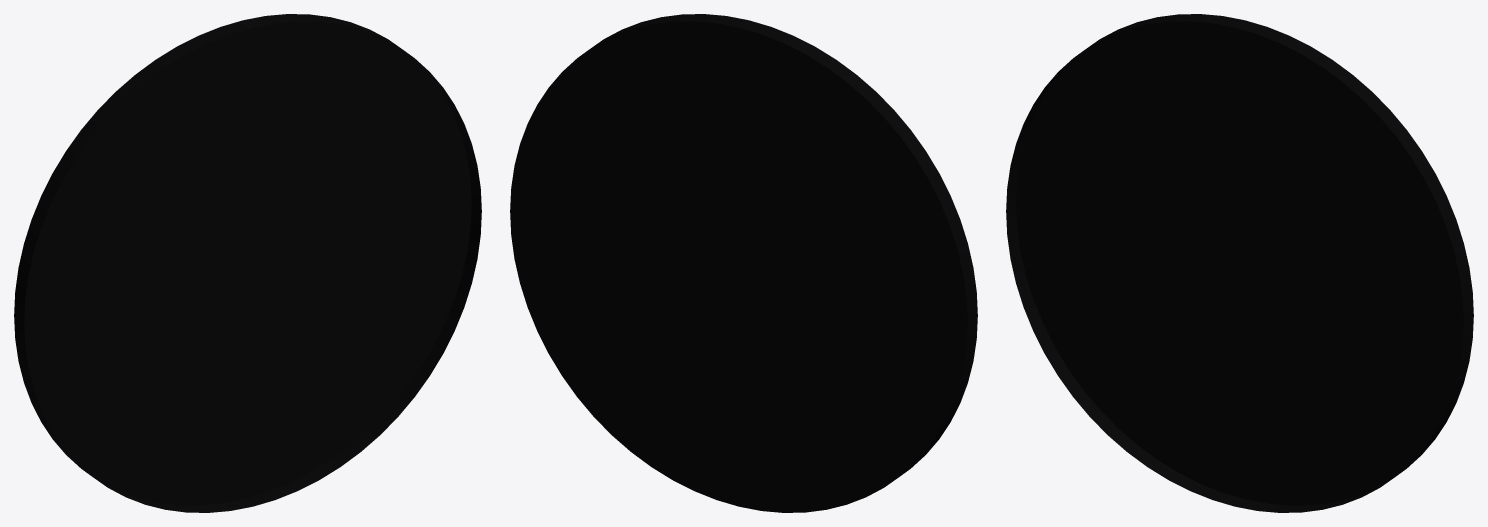
The model's file is asspod_well_black.obj.
The picture shows the model from 3 angles, left to right: view 1: azimuth 30°, elevation 25°; view 2: azimuth 150°, elevation 25°; view 3: azimuth 330°, elevation 25°; orthographic projection.
Bounding box in the file's own units: 0.0394 × 0.0394 × 0.0015.
Materials: 1 (1 with a texture image).
